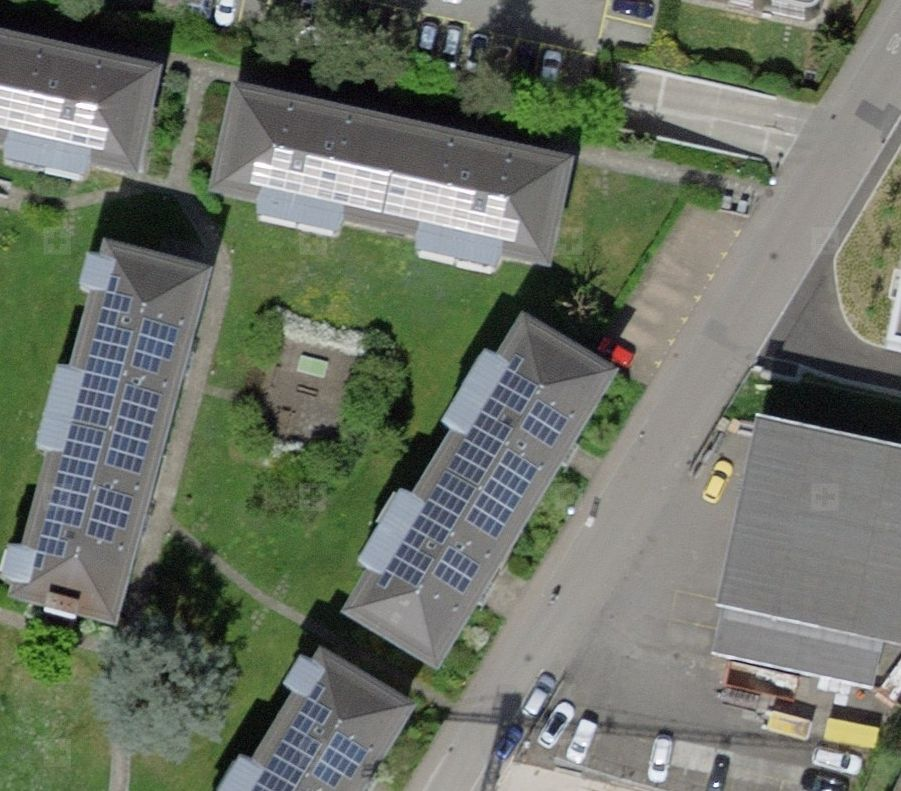solar: (370, 353, 568, 597), (34, 273, 184, 572), (244, 144, 521, 246), (247, 679, 367, 791), (1, 83, 113, 151)
